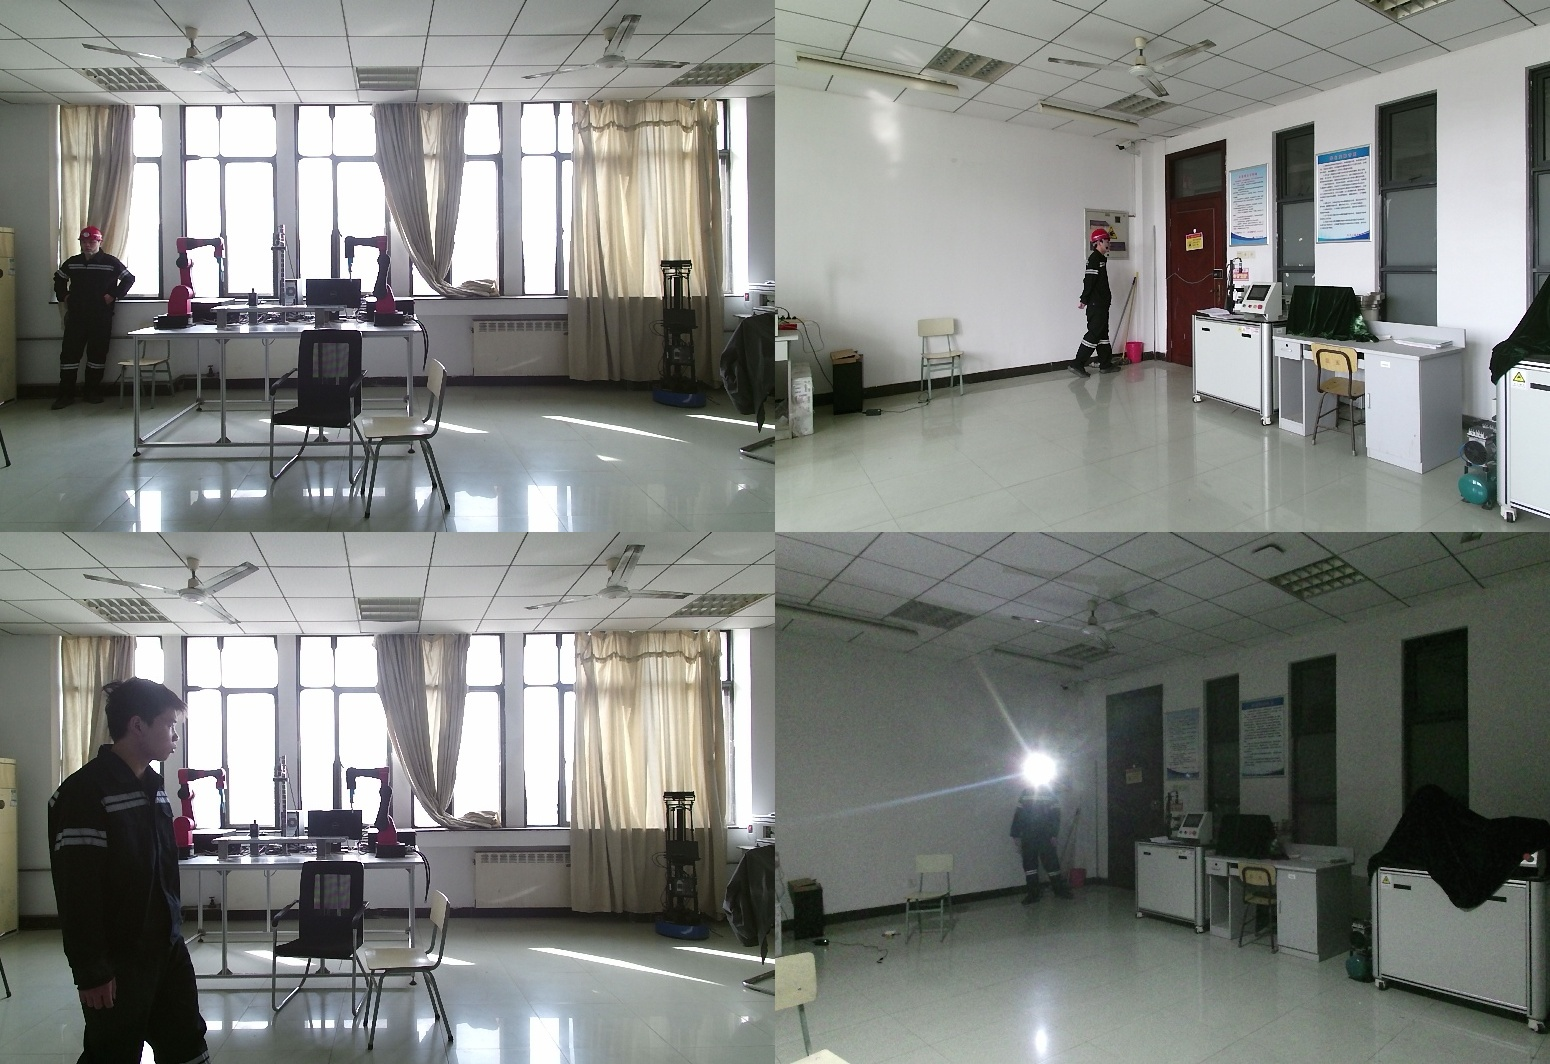person: (51, 679, 218, 1064), (54, 231, 135, 404), (1014, 764, 1071, 907), (1071, 231, 1116, 382)
